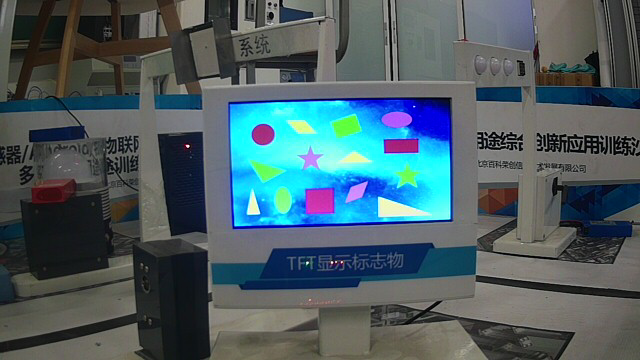graph: (226, 95, 457, 230)
